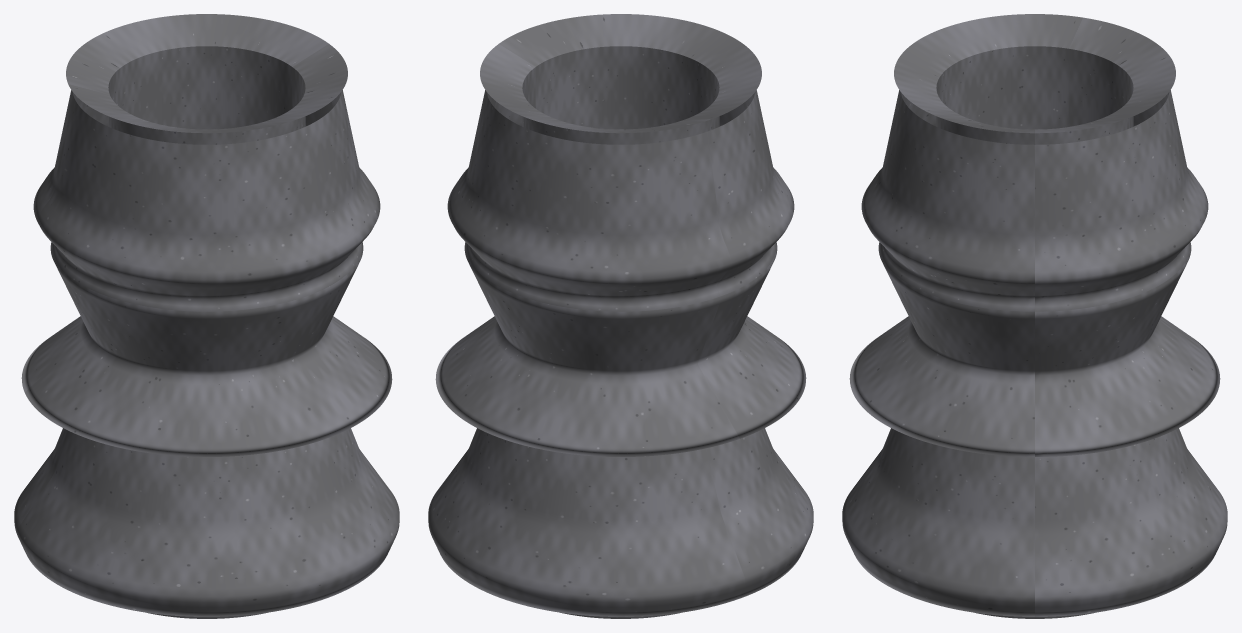
The model's file is vase3.glb.
The picture shows the model from 3 angles, left to right: view 1: azimuth 30°, elevation 25°; view 2: azimuth 150°, elevation 25°; view 3: azimuth 270°, elevation 25°; orthographic projection.
Parts seen in each view (by area): view 1: Mesh_0.003; view 2: Mesh_0.003; view 3: Mesh_0.003.
Part boxes in pixels (x1,y1,x2,y2): Mesh_0.003: [14, 14, 399, 618]; Mesh_0.003: [428, 14, 813, 618]; Mesh_0.003: [842, 14, 1227, 618].
Bounding box in the file's own units: 0.25 × 0.35 × 0.25.
Materials: 1 (1 with a texture image).
